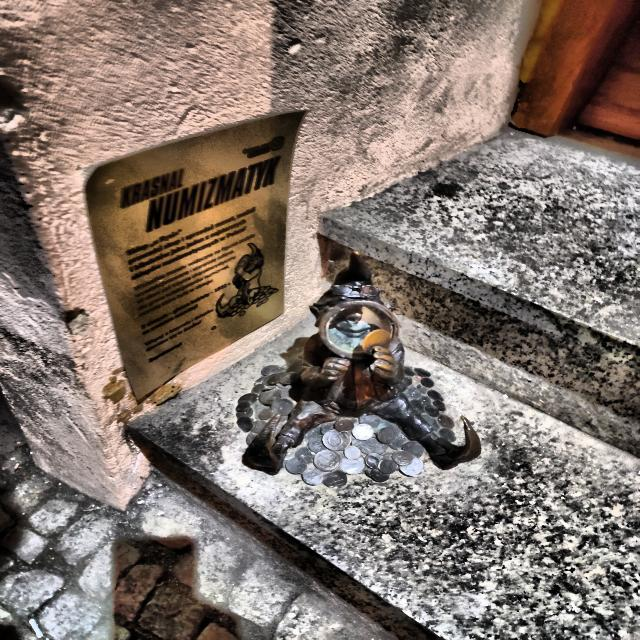Numizmatyk: (235, 255, 482, 488)
